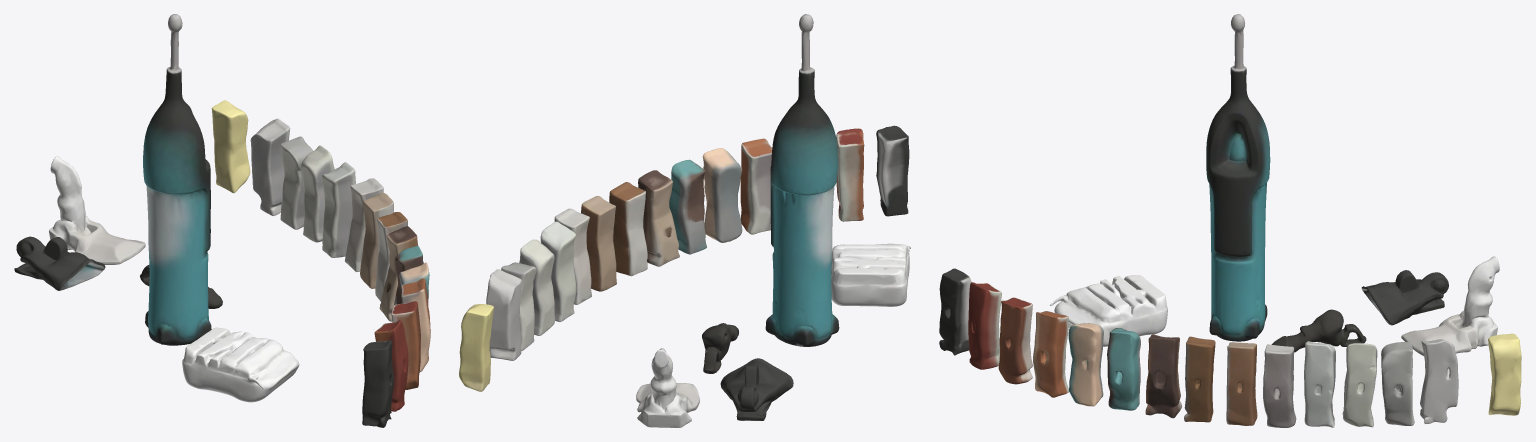
The model's file is tile-repairing-kit.glb.
The picture shows the model from 3 angles, left to right: view 1: azimuth 30°, elevation 25°; view 2: azimuth 150°, elevation 25°; view 3: azimuth 270°, elevation 25°; orthographic projection. The views are drawn at different scales.
Parts seen in each view (by area): view 1: tripo_node_50750124-fe8d-4754-bb3b-06b1c0ddaec8; view 2: tripo_node_50750124-fe8d-4754-bb3b-06b1c0ddaec8; view 3: tripo_node_50750124-fe8d-4754-bb3b-06b1c0ddaec8.
Boxes of the visible parts, <box> form: tripo_node_50750124-fe8d-4754-bb3b-06b1c0ddaec8: <box>14,14,430,427</box>; tripo_node_50750124-fe8d-4754-bb3b-06b1c0ddaec8: <box>459,14,910,427</box>; tripo_node_50750124-fe8d-4754-bb3b-06b1c0ddaec8: <box>939,14,1521,427</box>.
Size of the model in its own units: 0.5525 by 0.5955 by 0.9998.
Materials: 1 (1 with a texture image).
